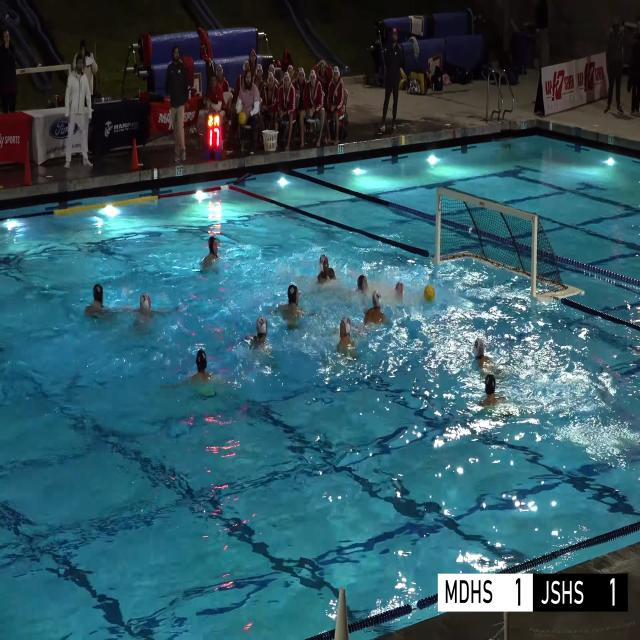ball: (424, 284, 435, 303), (238, 112, 246, 125)
